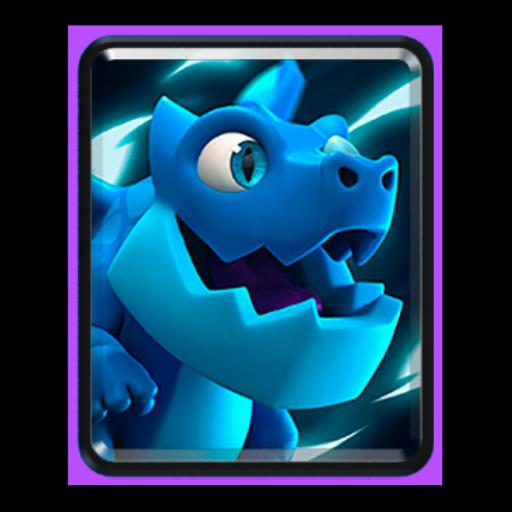electro-dragon: (90, 58, 420, 464)
